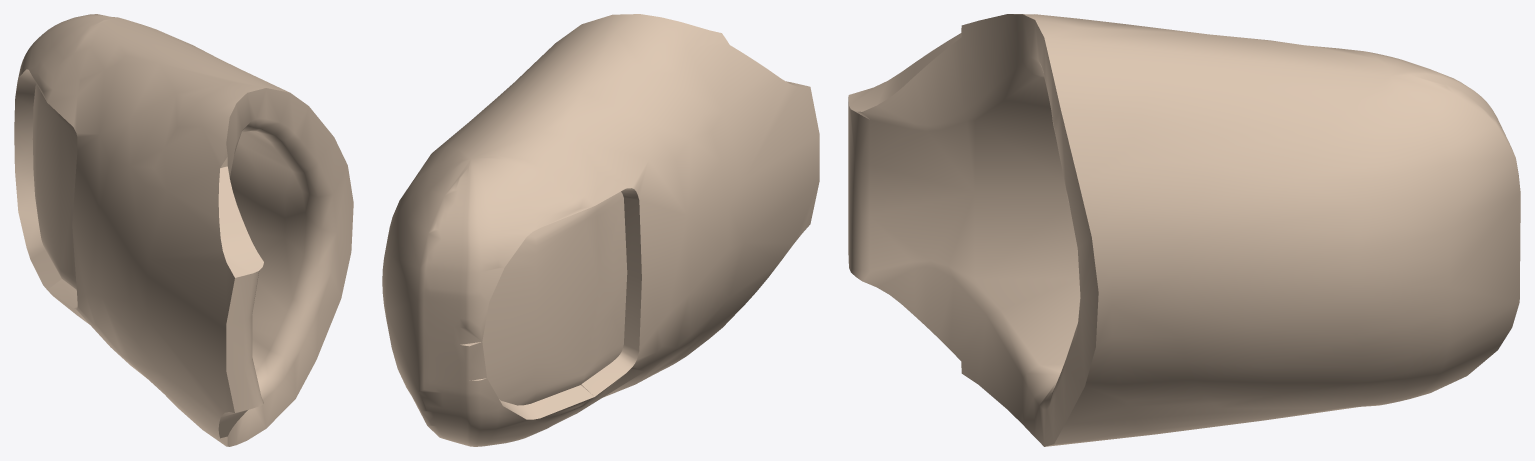
File: r_hand_D_I_1.obj
3 views of the same model, side by side, from view 1: azimuth 30°, elevation 25°; view 2: azimuth 150°, elevation 25°; view 3: azimuth 270°, elevation 25° (orthographic). The views are drawn at different scales.
Size of the model in its own units: 14.61 by 20.6 by 30.06.
